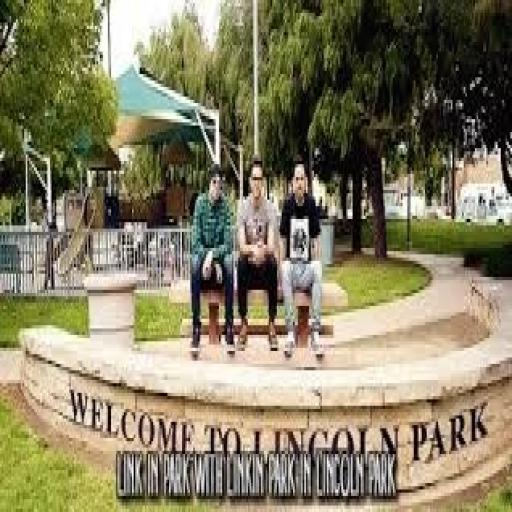sitting: (187, 151, 327, 361), (186, 161, 236, 357), (277, 158, 325, 360), (235, 155, 280, 354)
